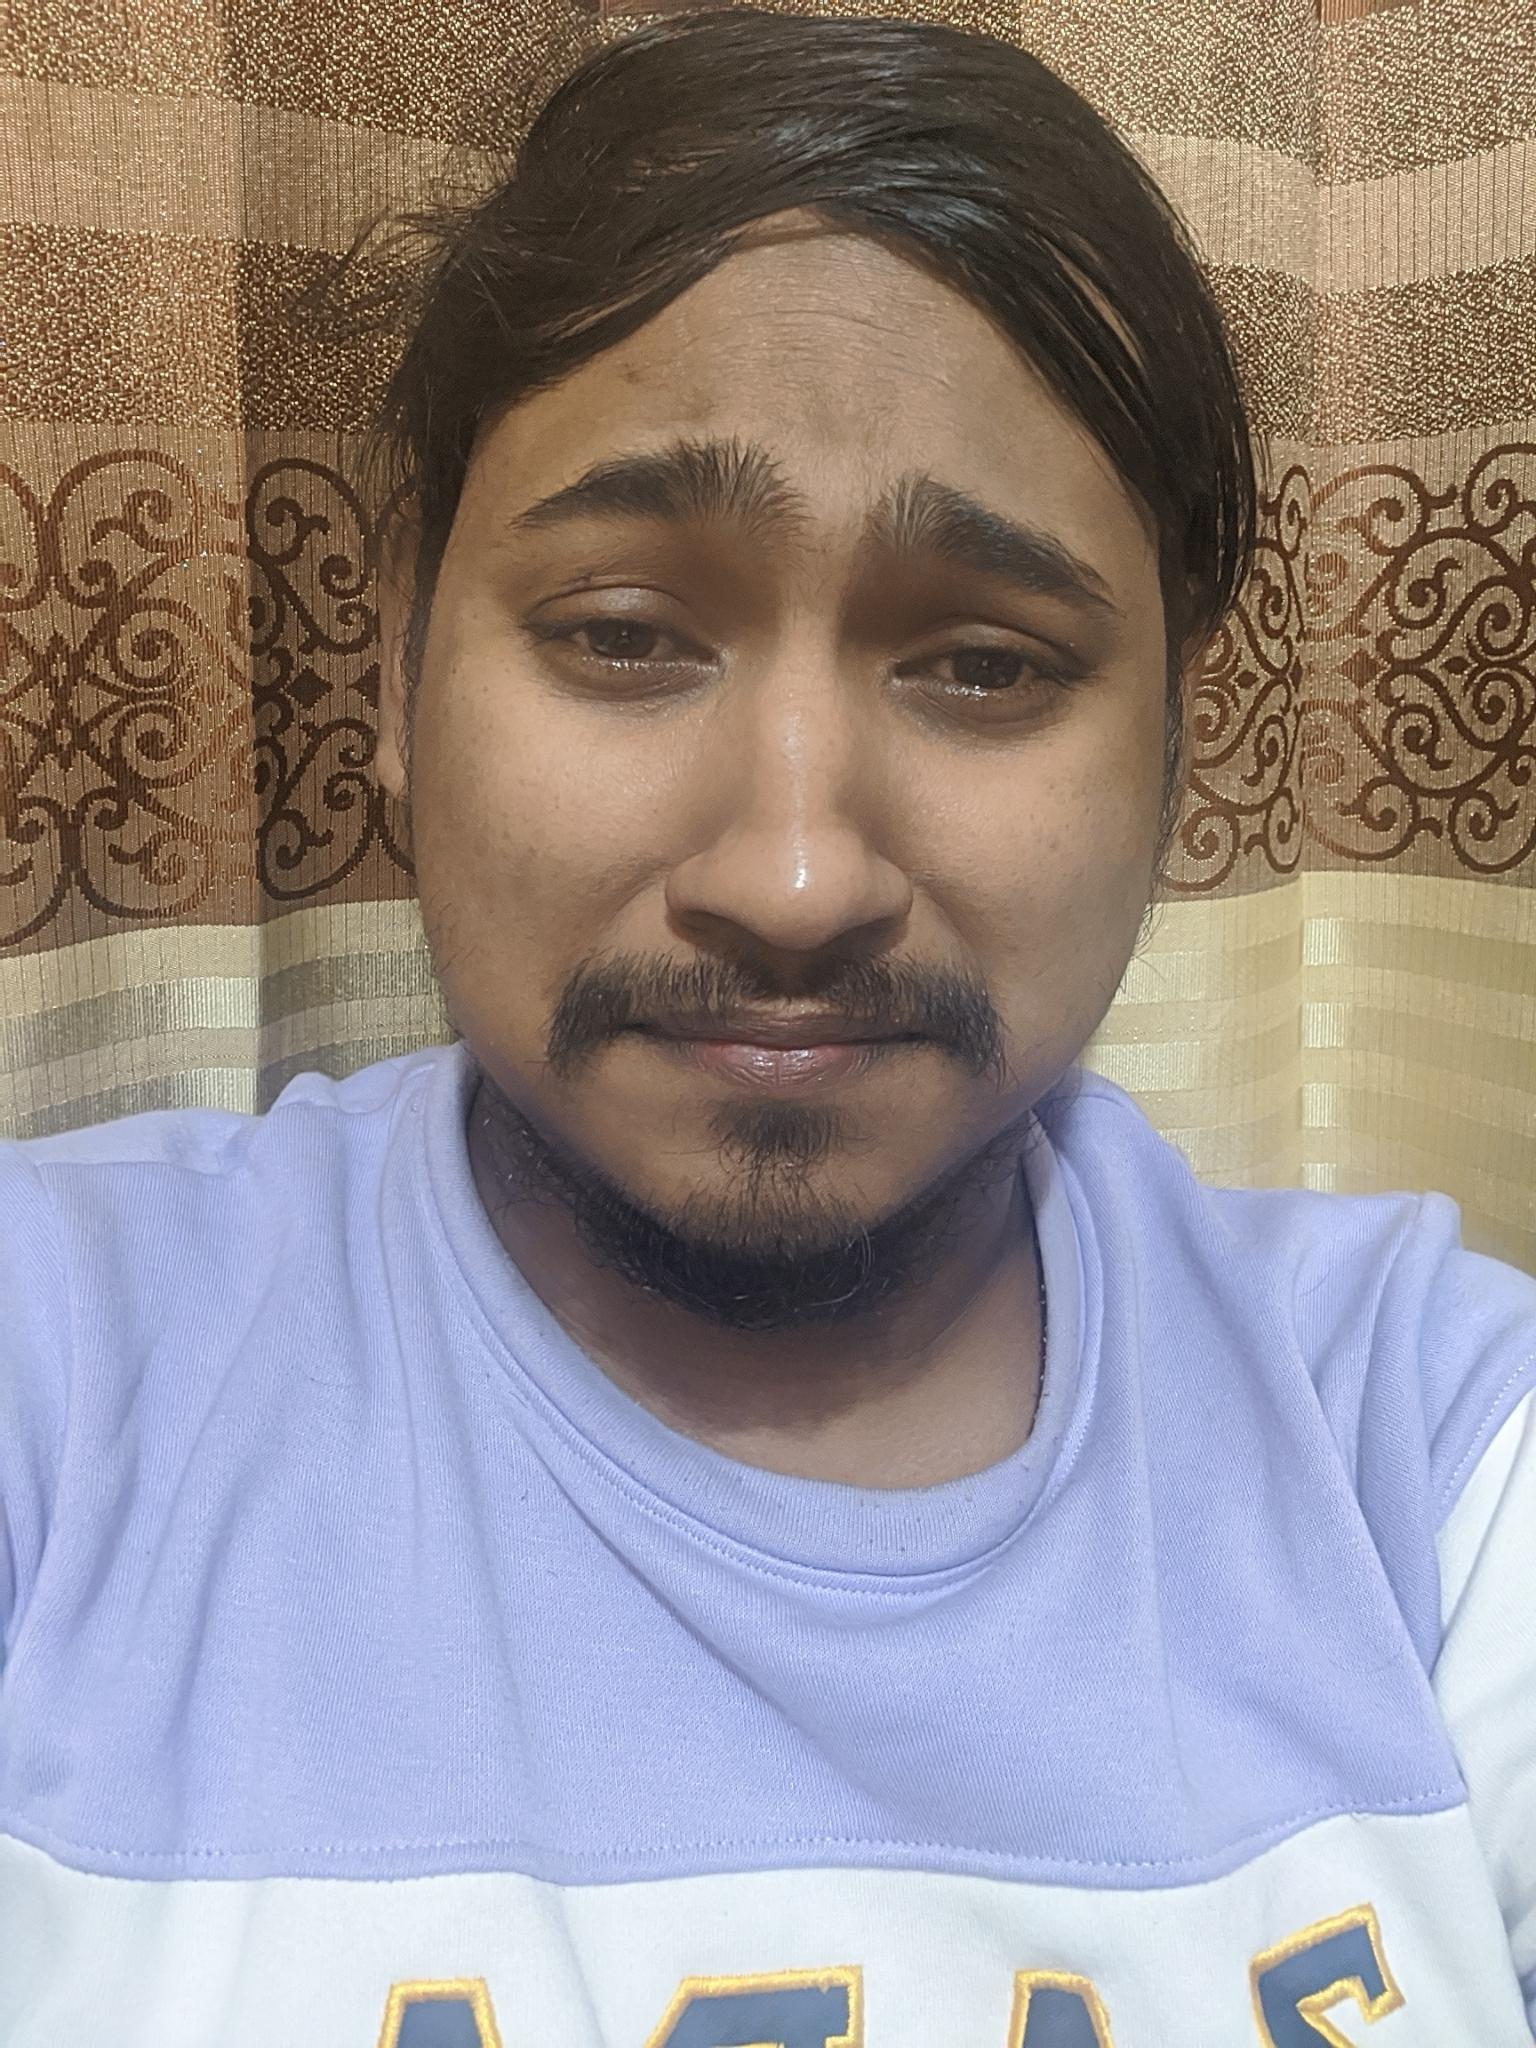Sad: (458, 361, 1129, 1264)
